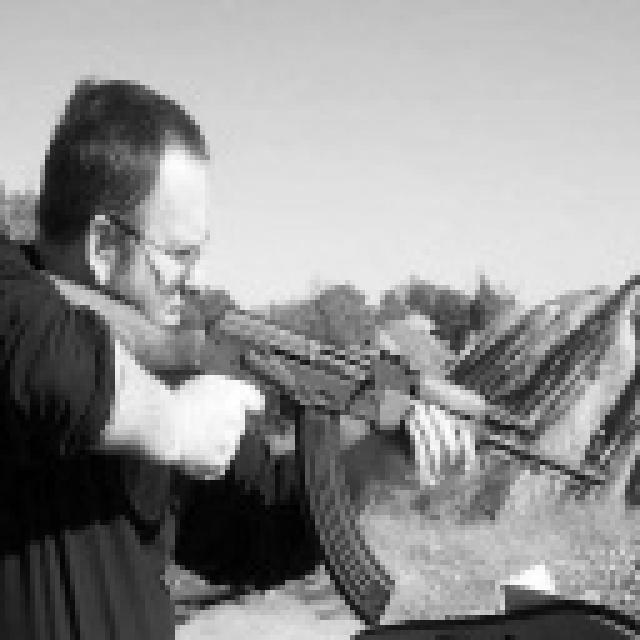Rifle: (0, 265, 614, 635)
